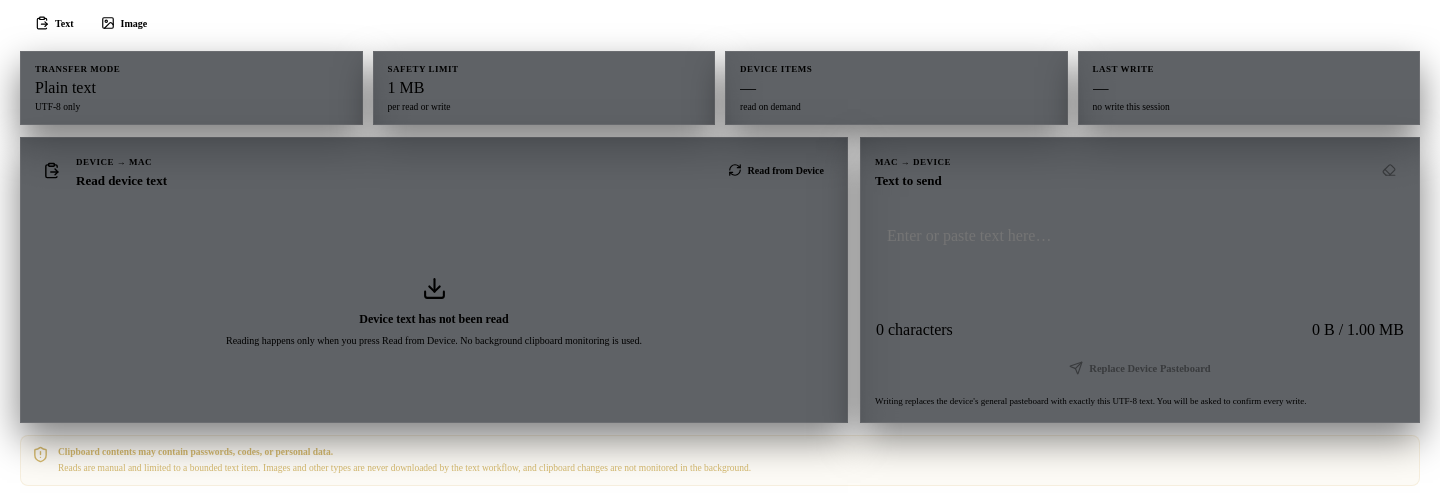
Test: Pasteboard transfer › moves read text into the editor without touching either clipboard
Click the button "Read from Device".
click(776, 170)  # box [718,156,833,184]
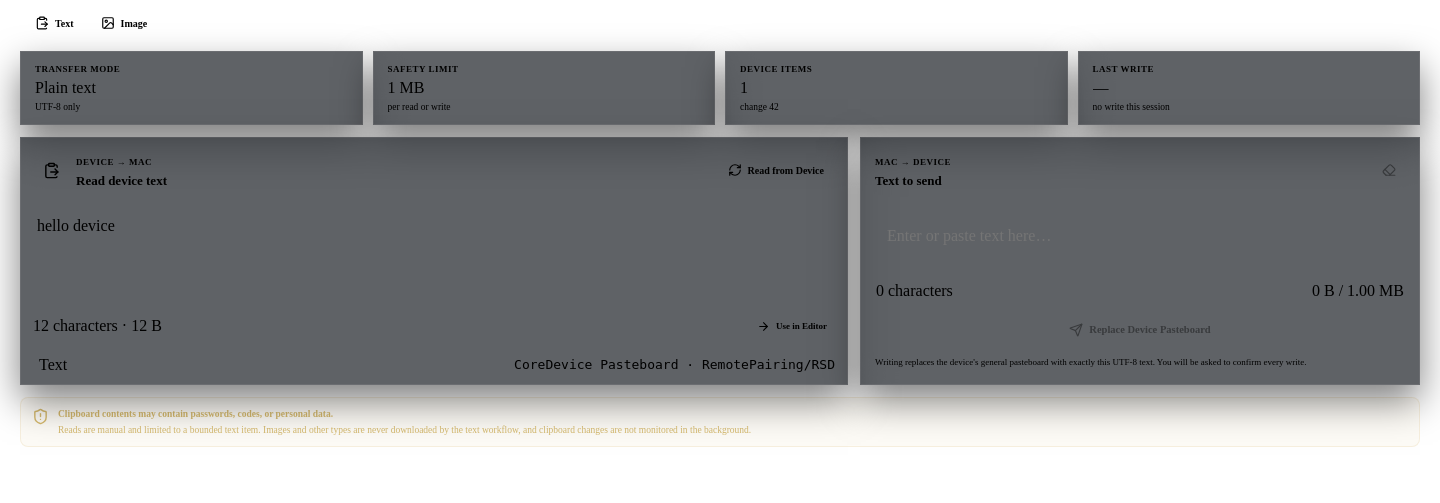
Click the button "Use in Editor".
click(792, 326)  # box [749,314,835,338]
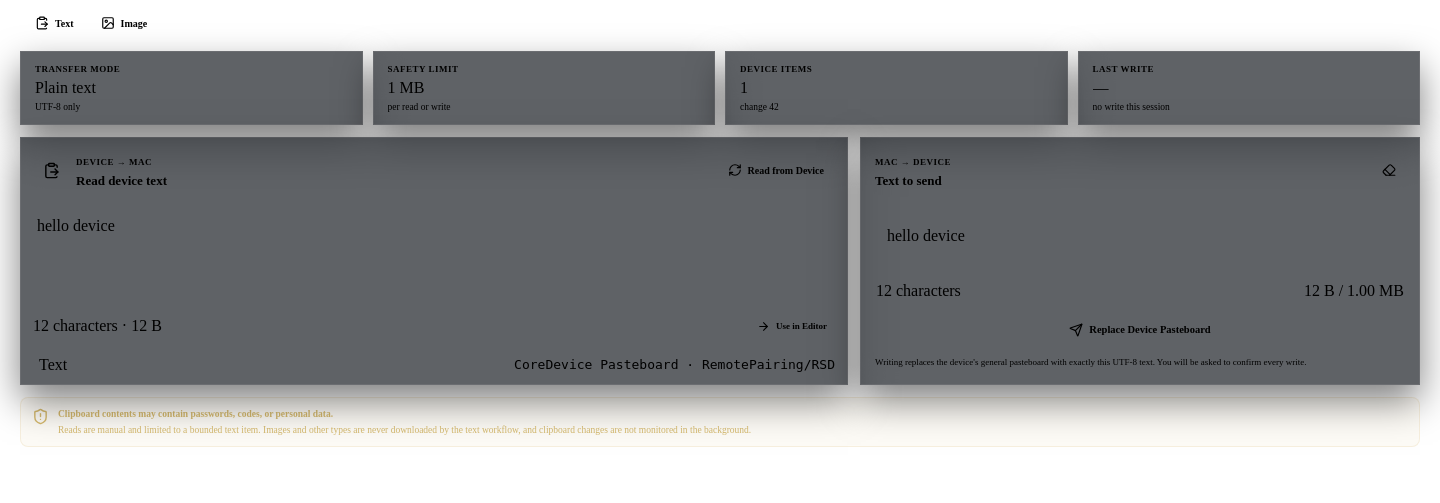
Result: the text box named "Text to send" holds "hello device" at [875,215,1405,275]
